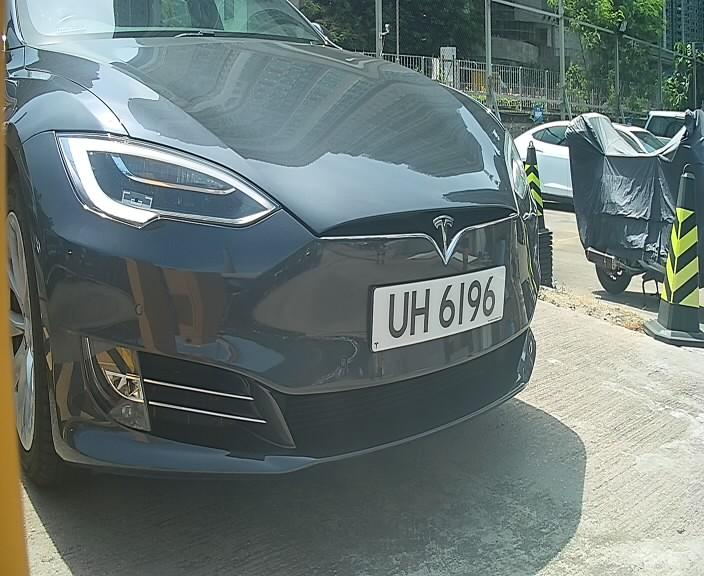License Plate: (368, 260, 507, 358)
